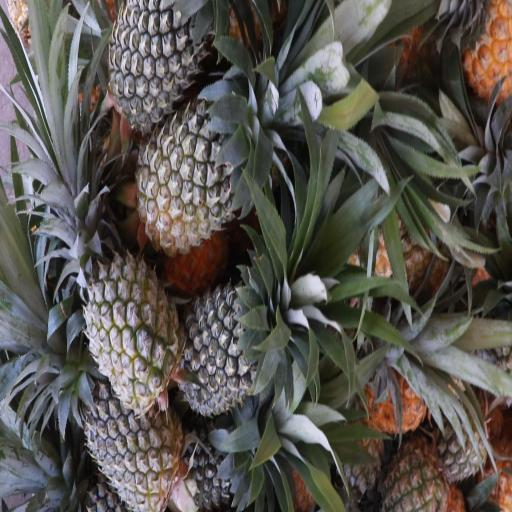------------------------------: (141, 101, 255, 241), (91, 253, 180, 405)
Pineapple - v8 v1: (455, 0, 512, 104)
